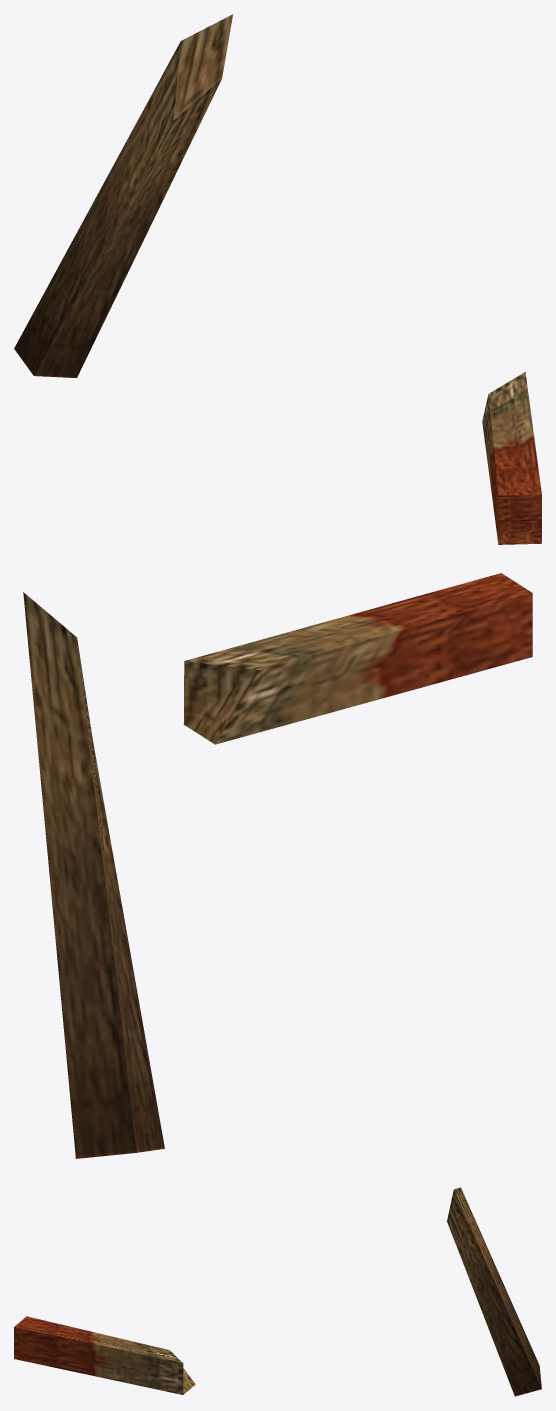
The model's file is MStck04.glb.
3 views of the same model, one above another, from view 1: azimuth 30°, elevation 25°; view 2: azimuth 150°, elevation 25°; view 3: azimuth 270°, elevation 25° (orthographic). The views are drawn at different scales.
Parts seen in each view (by area): view 1: _MStck04; view 2: _MStck04; view 3: _MStck04.
Part boxes in pixels (left/top/right/bottom): _MStck04: left=14, top=14, right=541, bottom=544; _MStck04: left=23, top=573, right=532, bottom=1158; _MStck04: left=14, top=1187, right=541, bottom=1396.
Bounding box in the file's own units: 0.3512 × 0.5226 × 1.03.
1 material, 1 textured.
